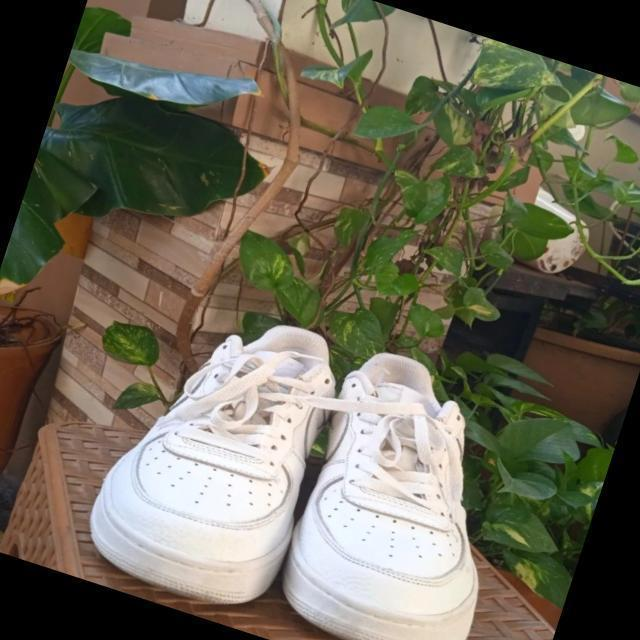nike fake air force: (68, 280, 358, 630), (263, 336, 549, 640)
